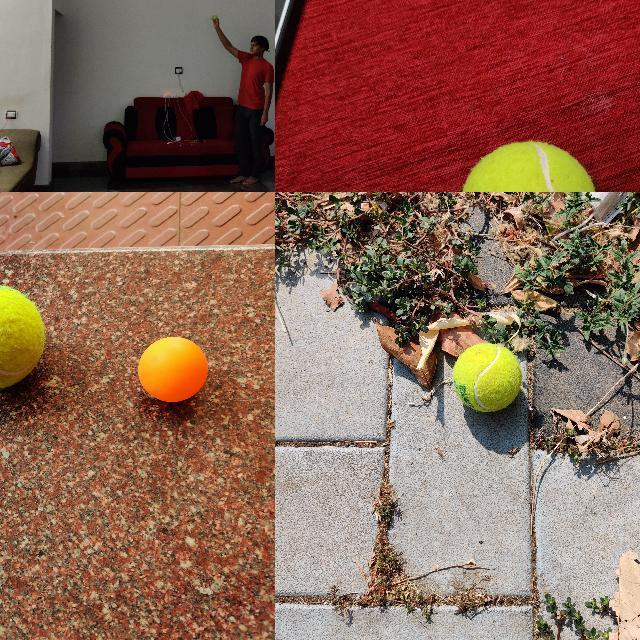tennis-ball: (458, 140, 601, 191), (453, 343, 522, 412), (0, 283, 44, 388), (211, 15, 217, 20)
